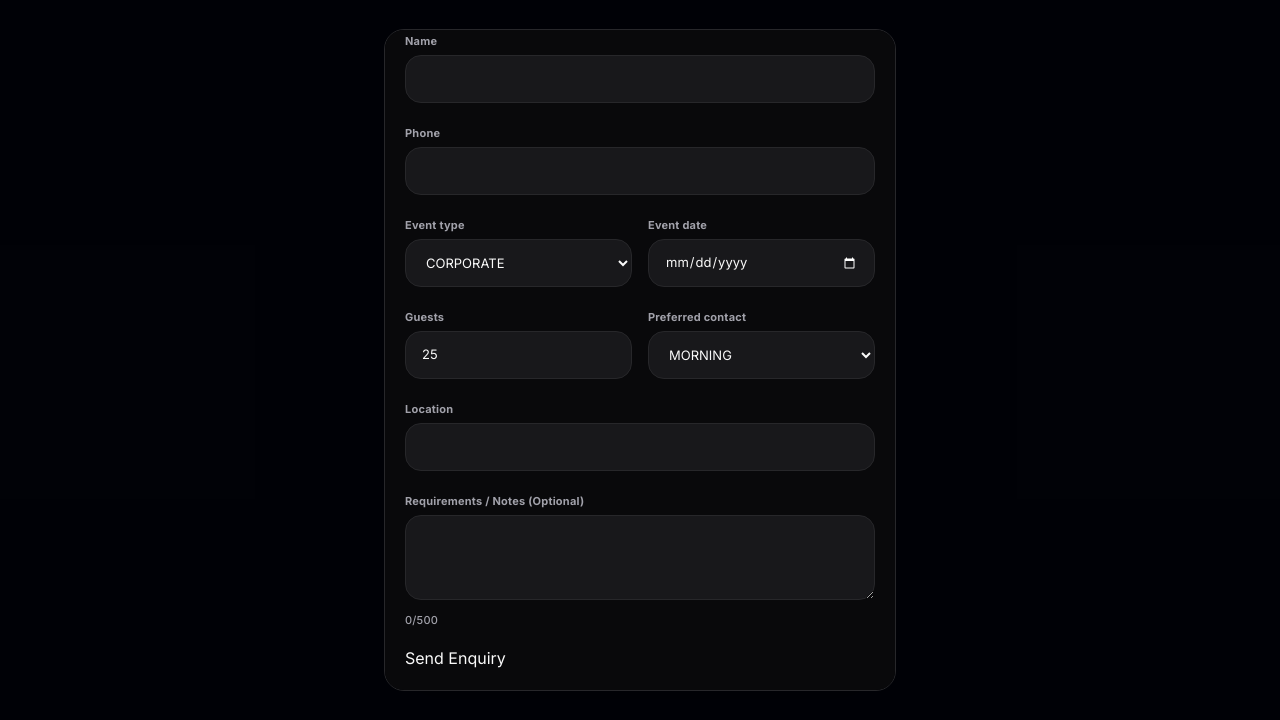
Scenario: CateringEnquiryForm › validates required customer enquiry fields before submitting
(page scrolled)
Click the button "Send Enquiry". click: (455,658)
box: [405, 646, 506, 670]
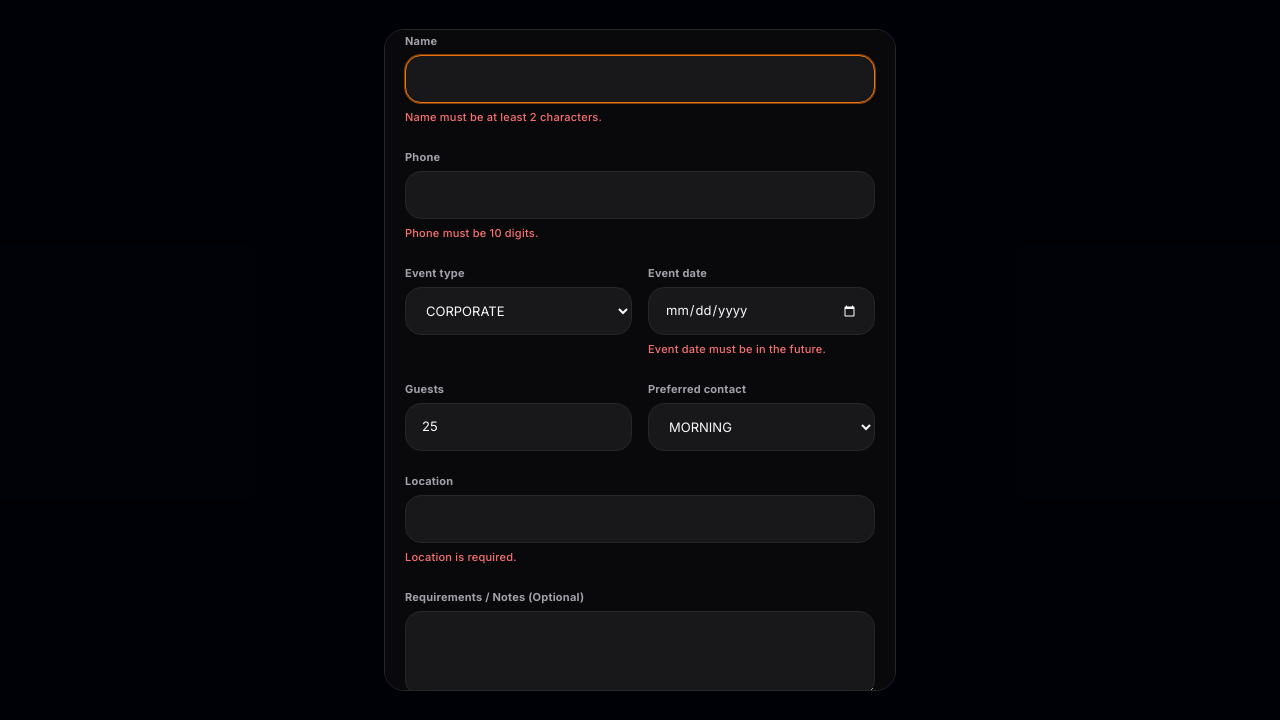
Now the text "Name must be at least 2 characters." is shown, box [405, 110, 602, 124]
Now the text "Phone must be 10 digits." is shown, box [405, 226, 538, 240]
Now the text "Event date must be in the future." is shown, box [648, 342, 826, 356]
